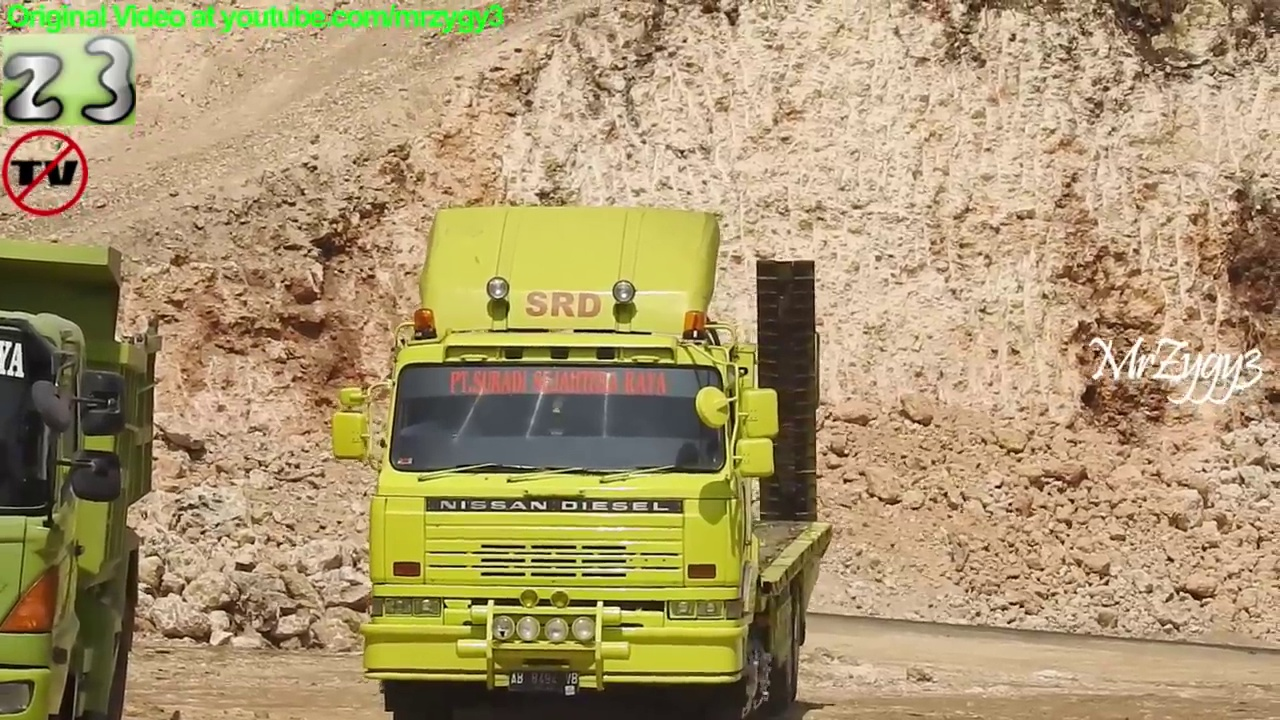truck: (326, 200, 839, 720), (1, 227, 172, 720)
